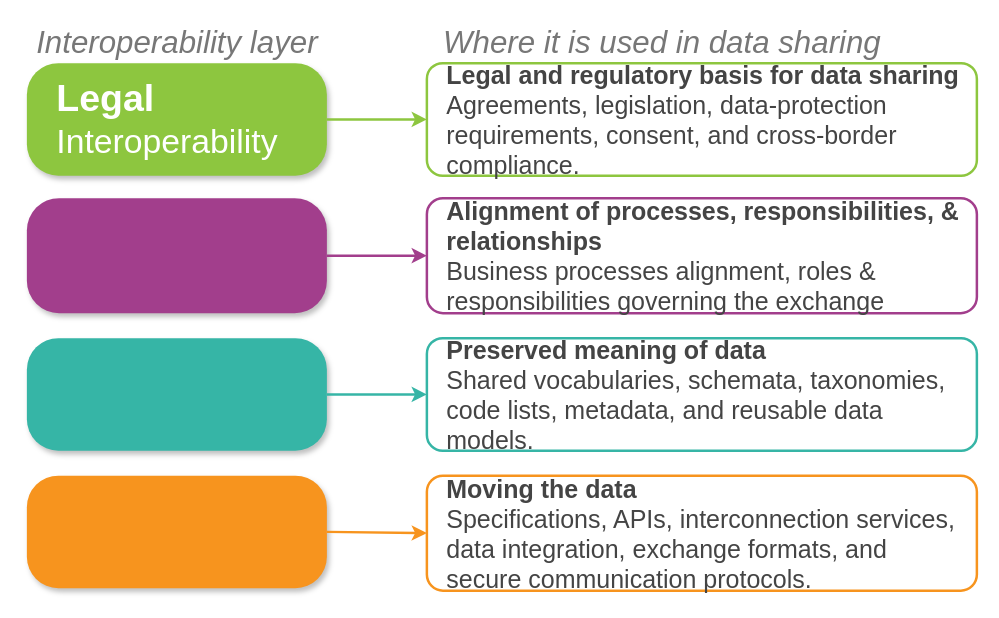
Image size: 999x618. Some labels were removed from this diagram. Here are the shapes that lost their labels. From the top down, the centre of each, then its label:
point (177, 256): Organizational Interoperability
point (177, 395): Semantic Interoperability
point (177, 533): Technical Interoperability
